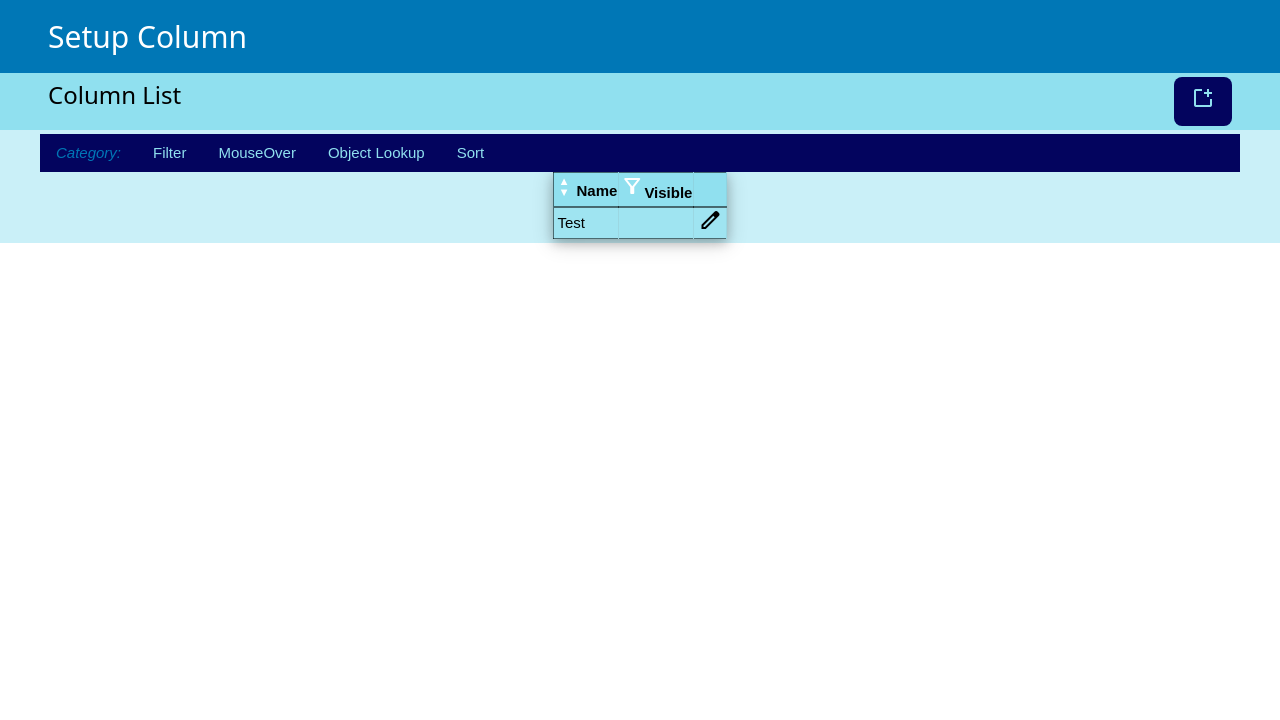
Test: SetupColumn Component › SetupColumn Edit Column
The width and height of the screenshot is (1280, 720).
Expected: the number of headings "Column List" is 1, [48,78,181,111]
Click the text titled "Edit Item" at (710, 220), box [698,208,722,232]
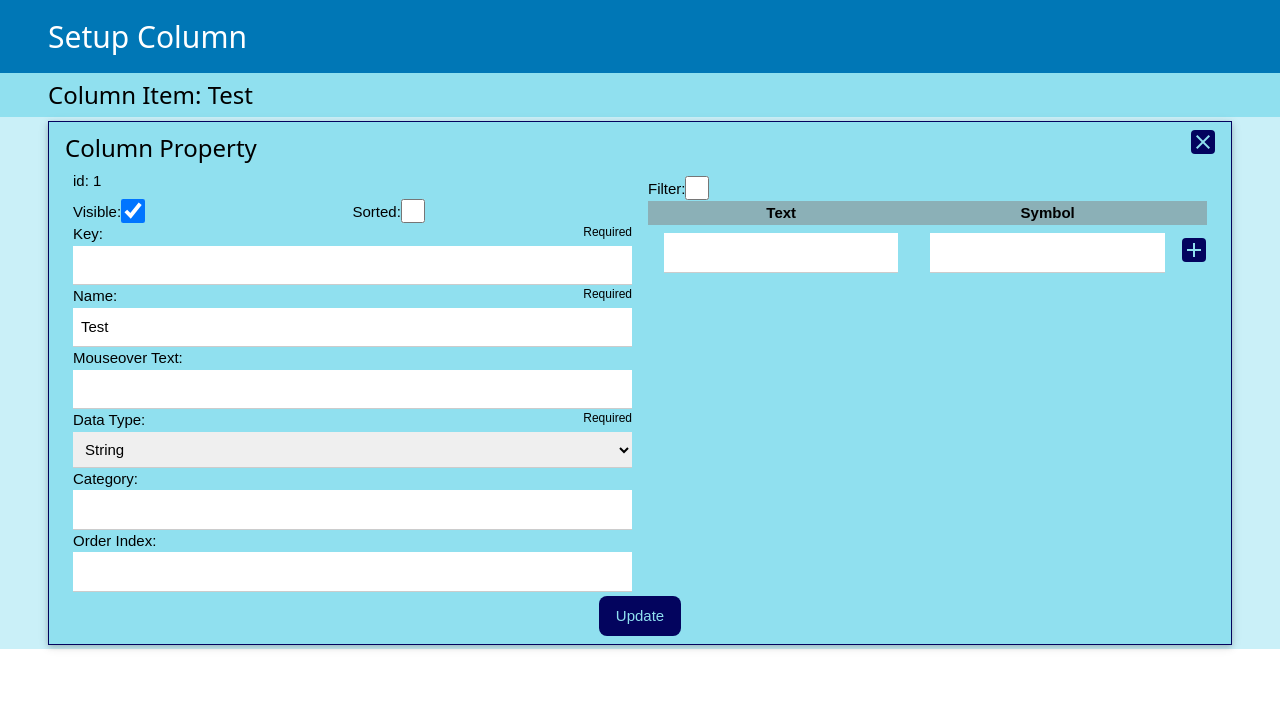
Expected: the heading "Column Item: Test" is shown, [48,78,253,111]
